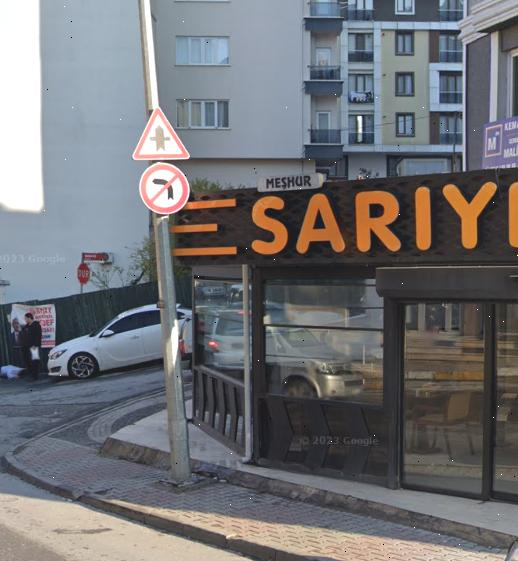leftturnsareforbidden: (139, 161, 189, 217)
